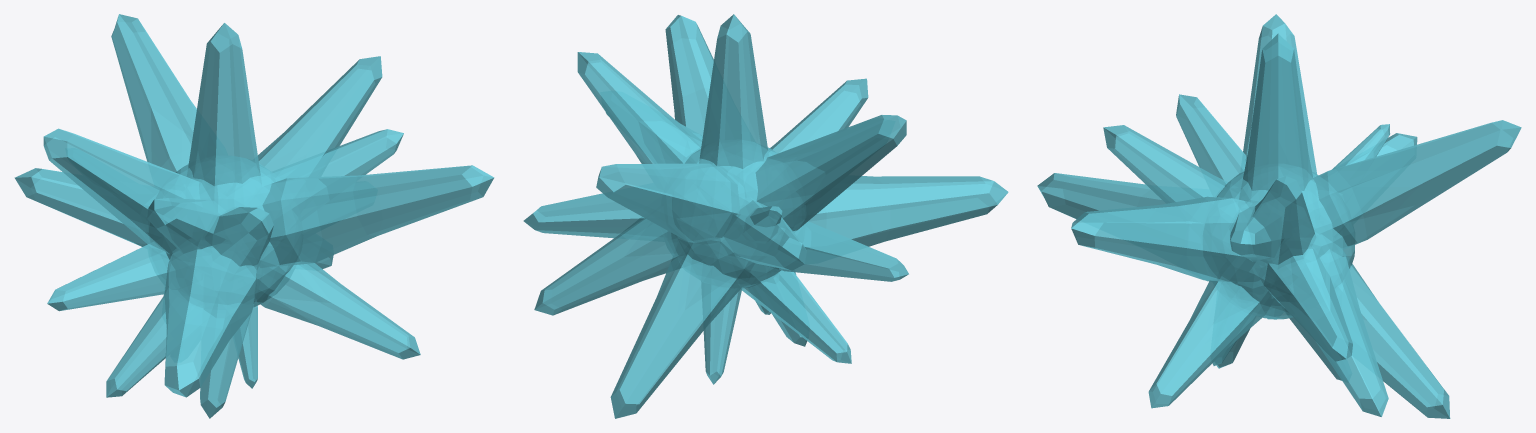
The model's file is IceSpikes.fbx.
3 views of the same model, side by side, from view 1: azimuth 30°, elevation 25°; view 2: azimuth 150°, elevation 25°; view 3: azimuth 270°, elevation 25° (orthographic). The views are drawn at different scales.
Visible parts, largest first — view 1: Cube.023; view 2: Cube.023; view 3: Cube.023.
Boxes of the visible parts, box(x1,y1,x2,y2) form: Cube.023: box(14, 14, 494, 418); Cube.023: box(523, 14, 1008, 418); Cube.023: box(1037, 14, 1521, 418).
Size of the model in its own units: 565 by 545 by 652.
